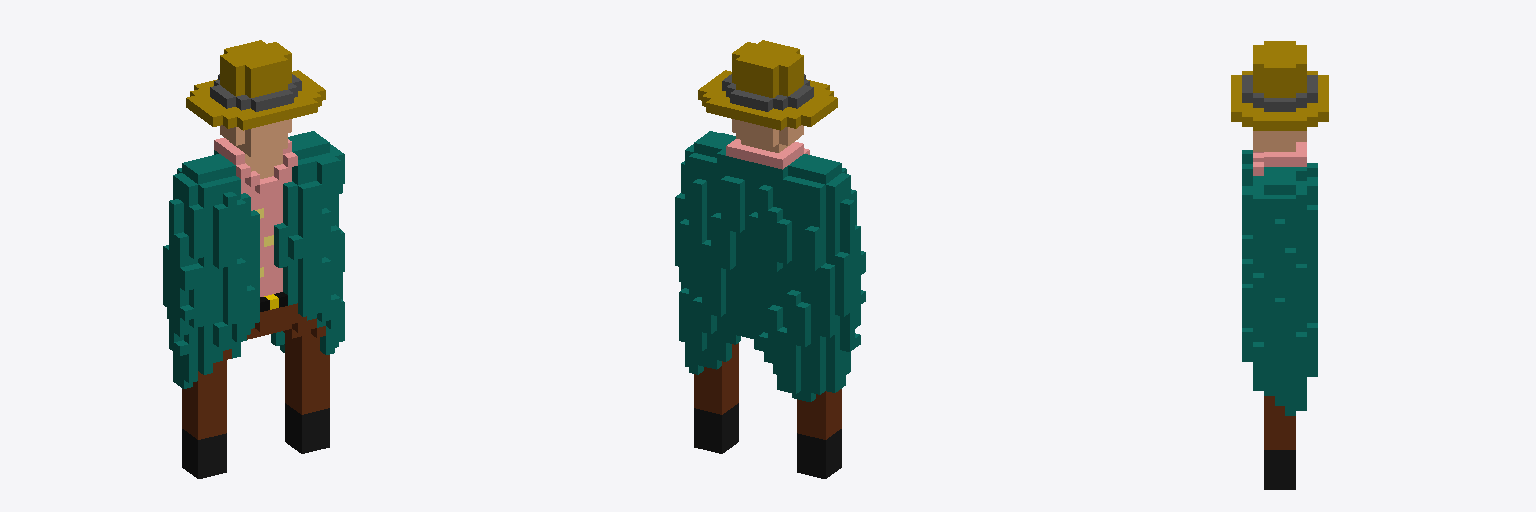
The picture shows the model from 3 angles: view 1: azimuth 30°, elevation 25°; view 2: azimuth 150°, elevation 25°; view 3: azimuth 270°, elevation 25°; orthographic projection.
Visible parts, largest first — view 1: object 1; view 2: object 1; view 3: object 1.
Part boxes in pixels (x1,y1,x2,y2): object 1: (163, 40, 344, 478); object 1: (675, 40, 865, 478); object 1: (1231, 41, 1328, 489).
Size of the model in its own units: 1.8 by 4.1 by 0.9.
Materials: 1 (1 with a texture image).